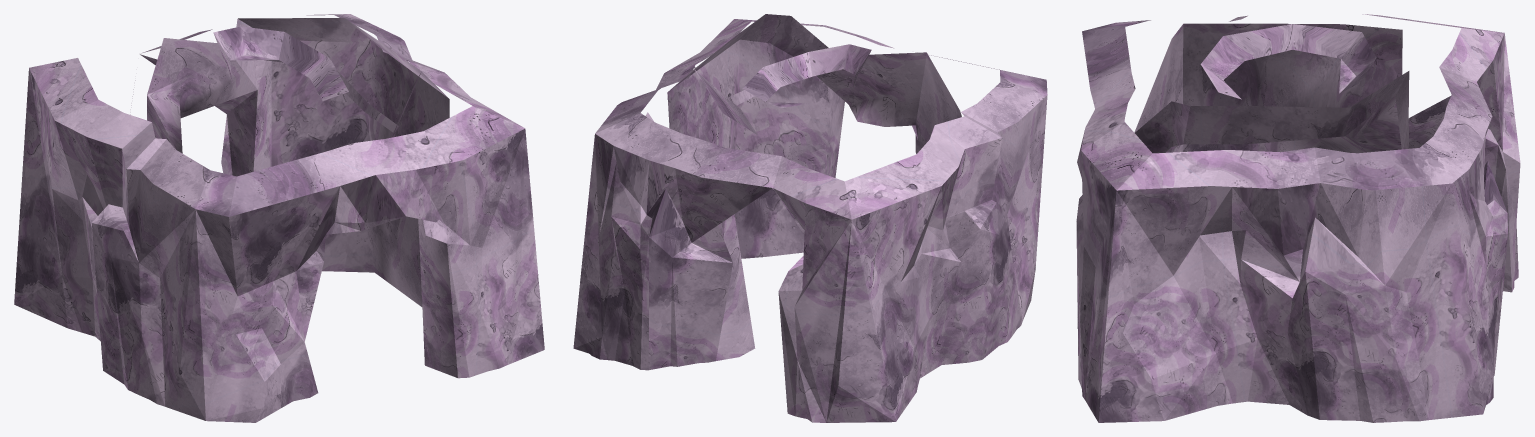
Rendered from s0_Floating_Island_04__1__01.glb.
3 views of the same model, side by side, from view 1: azimuth 30°, elevation 25°; view 2: azimuth 150°, elevation 25°; view 3: azimuth 270°, elevation 25° (orthographic). The views are drawn at different scales.
Visible parts, largest first — view 1: node_Floating_Island_04 (1); view 2: node_Floating_Island_04 (1); view 3: node_Floating_Island_04 (1).
Part boxes in pixels (<box>): node_Floating_Island_04 (1): <box>14,14,544,422</box>; node_Floating_Island_04 (1): <box>573,14,1047,422</box>; node_Floating_Island_04 (1): <box>1076,14,1520,422</box>.
Size of what is drawn, in the model's own units: 15.33 by 11.21 by 15.74.
Materials: 1 (1 with a texture image).
